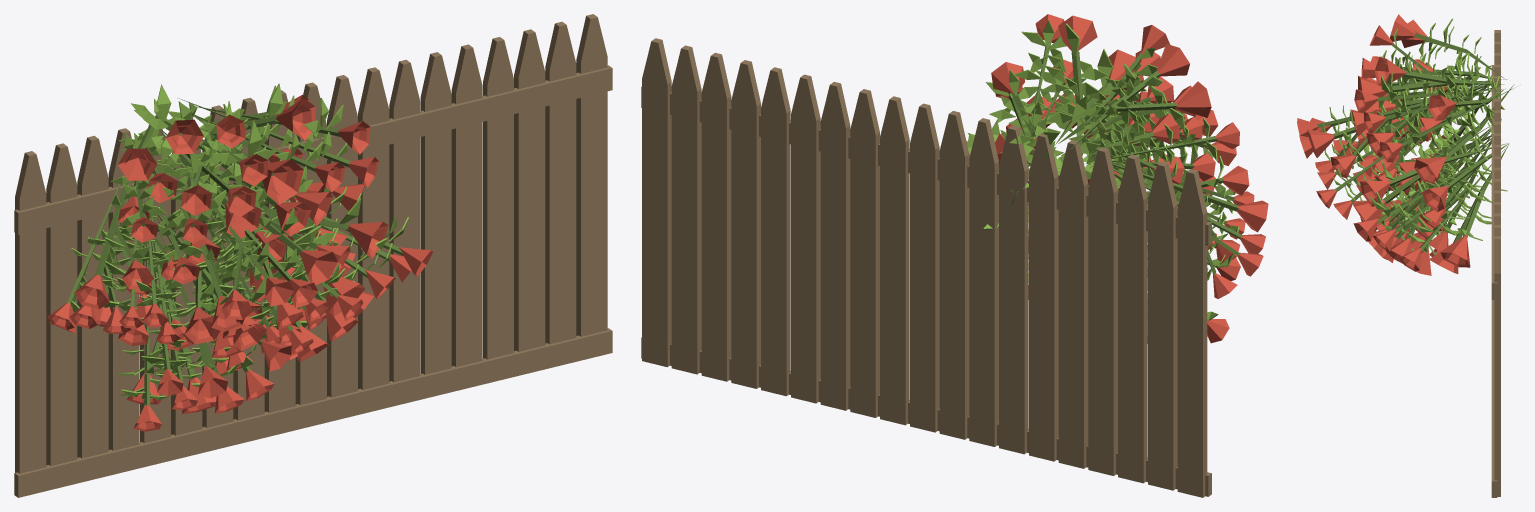
The model's file is fR4tQufNJcK.glb.
3 renders of one model, left to right at view 1: azimuth 30°, elevation 25°; view 2: azimuth 150°, elevation 25°; view 3: azimuth 270°, elevation 25°, orthographic. The views are drawn at different scales.
Visible parts, largest first — view 1: Cube.022_Cube.026, Circle.001_Circle.173; view 2: Cube.022_Cube.026, Circle.001_Circle.173; view 3: Circle.001_Circle.173, Cube.022_Cube.026.
Boxes of the visible parts, x1,y1,x2,y2 form: Cube.022_Cube.026: (14,14,612,497); Circle.001_Circle.173: (47,83,433,431); Cube.022_Cube.026: (641,38,1211,497); Circle.001_Circle.173: (966,14,1268,343); Circle.001_Circle.173: (1297,14,1514,275); Cube.022_Cube.026: (1491,30,1500,497).
Bounding box in the file's own units: 1.56 × 1 × 0.6665.
